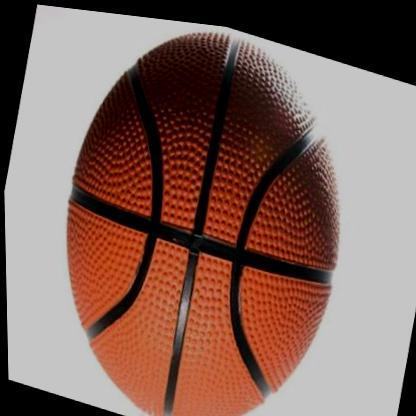basketball: (25, 2, 375, 416)
